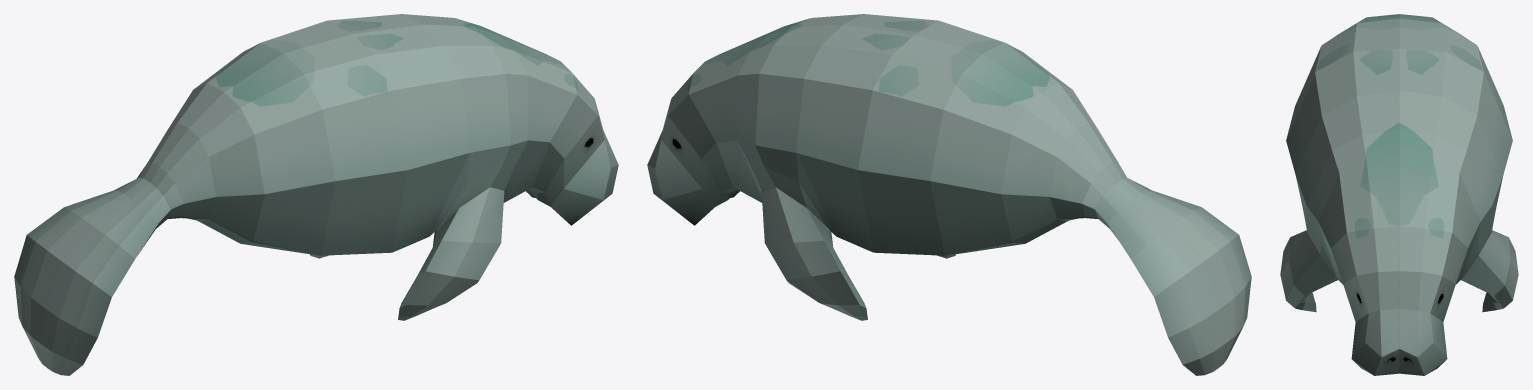
Rendered from peixe-boi.glb.
The picture shows the model from 3 angles, left to right: view 1: azimuth 30°, elevation 25°; view 2: azimuth 150°, elevation 25°; view 3: azimuth 270°, elevation 25°; orthographic projection.
Visible parts, largest first — view 1: Manatees_mesh; view 2: Manatees_mesh; view 3: Manatees_mesh.
Boxes of the visible parts, bbox=[...] form: Manatees_mesh: bbox=[14, 14, 618, 375]; Manatees_mesh: bbox=[647, 14, 1251, 375]; Manatees_mesh: bbox=[1280, 14, 1518, 375].
Bounding box in the file's own units: 10.18 × 4.45 × 3.75.
1 material, 1 textured.
